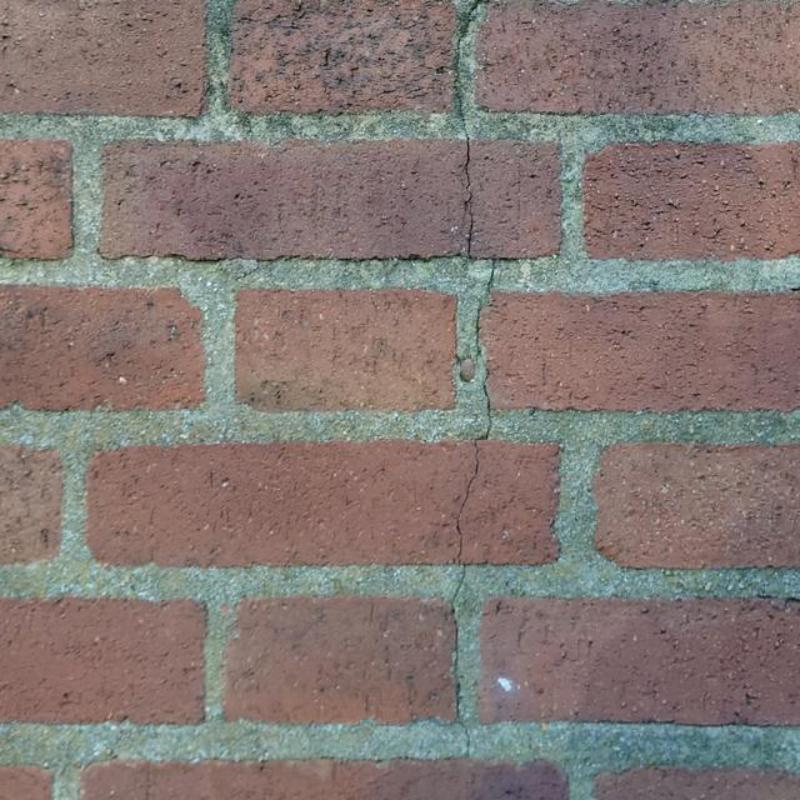pothole: (454, 1, 485, 258), (456, 365, 491, 564), (450, 565, 472, 757), (476, 260, 496, 357)
